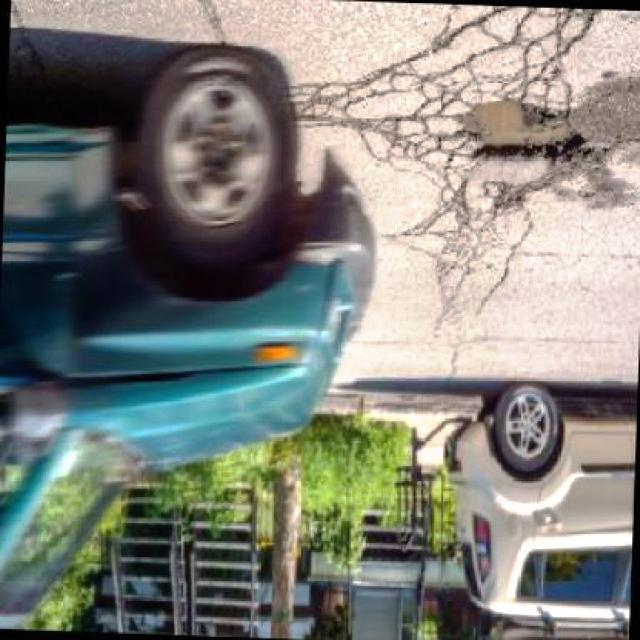pothole: (458, 94, 592, 164)
